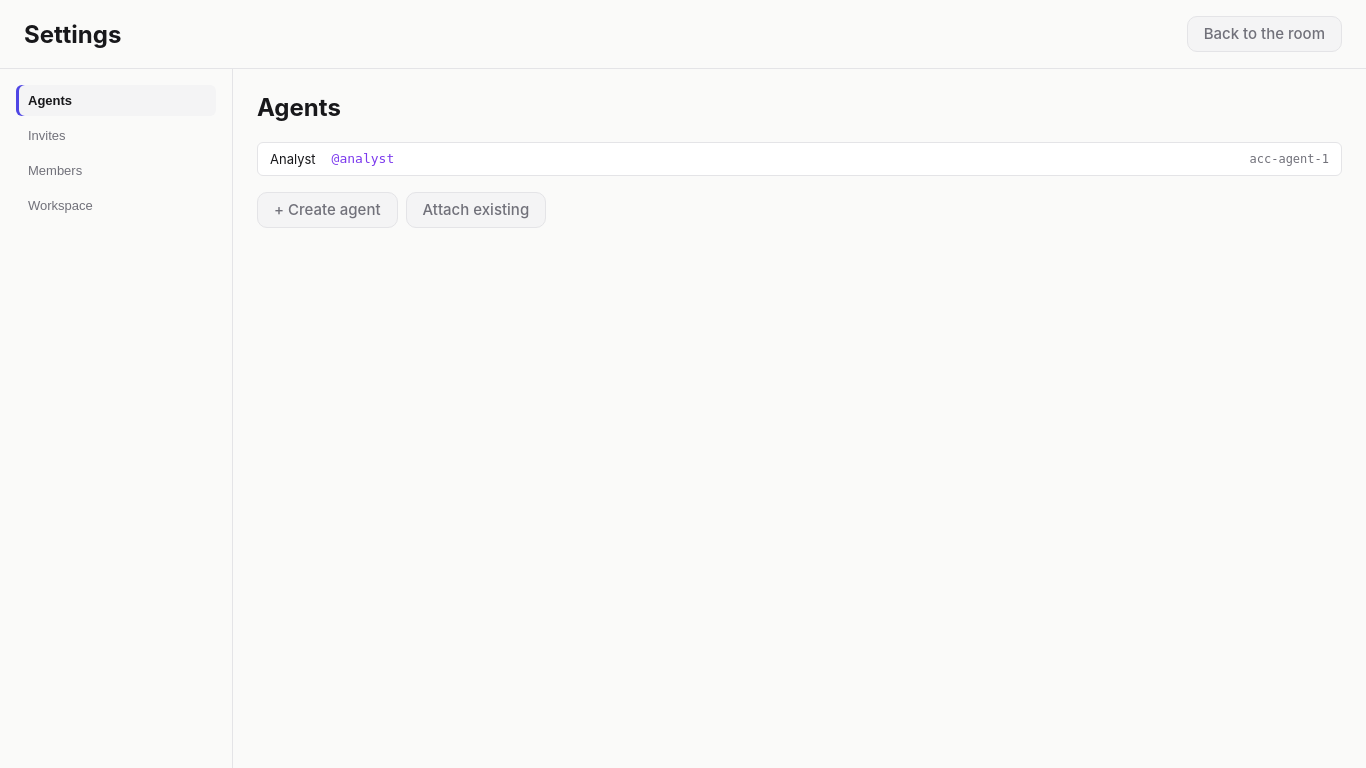
Test: Agents panel (web spec §2, constitution §6) › copying the key uses the clipboard API with the exact key string
This screenshot has width=1366, height=768.
Expected: the text "Analyst" is shown, [270, 151, 316, 167]
Click the button "+ Create agent".
click(327, 210)  # box [257, 192, 398, 228]
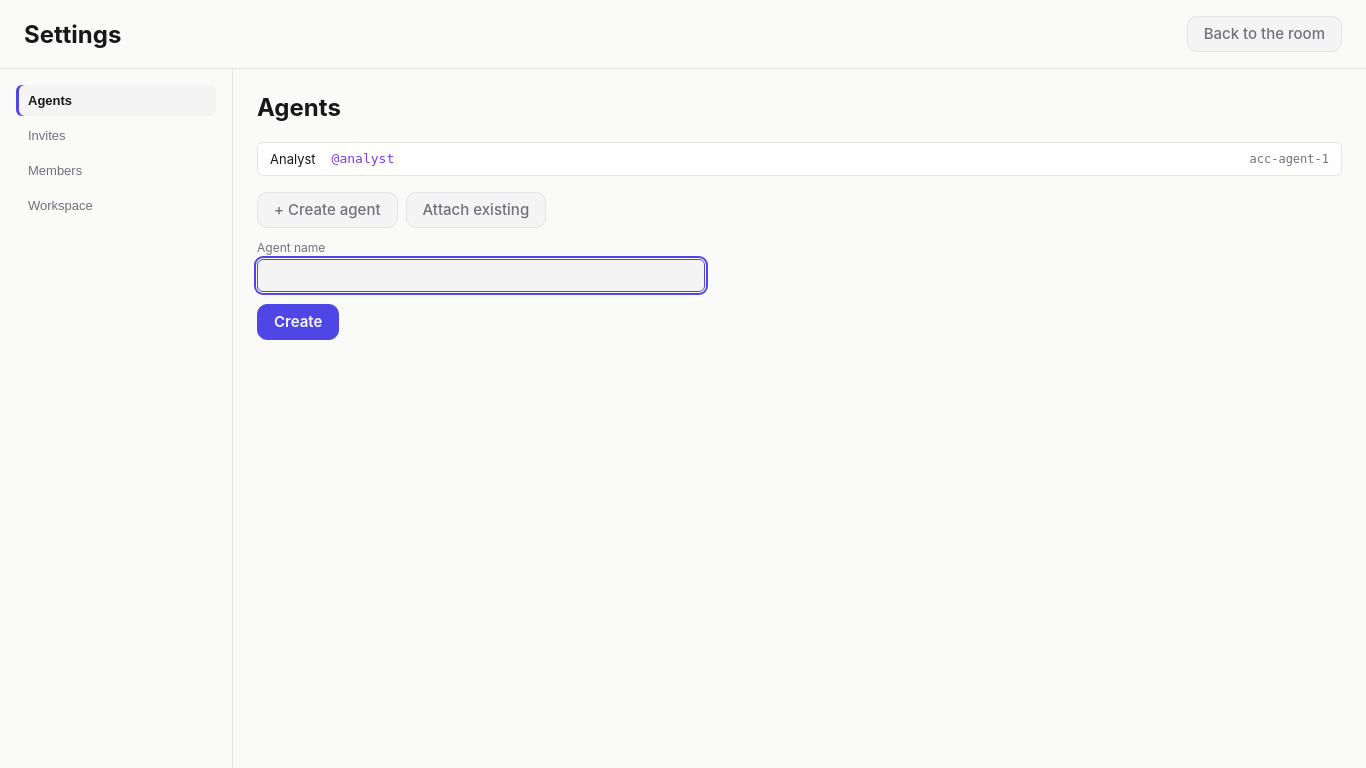
Type "NewAgent" into the field labelled "Agent name".
click(481, 275); type("NewAgent")  # box [257, 259, 705, 292]
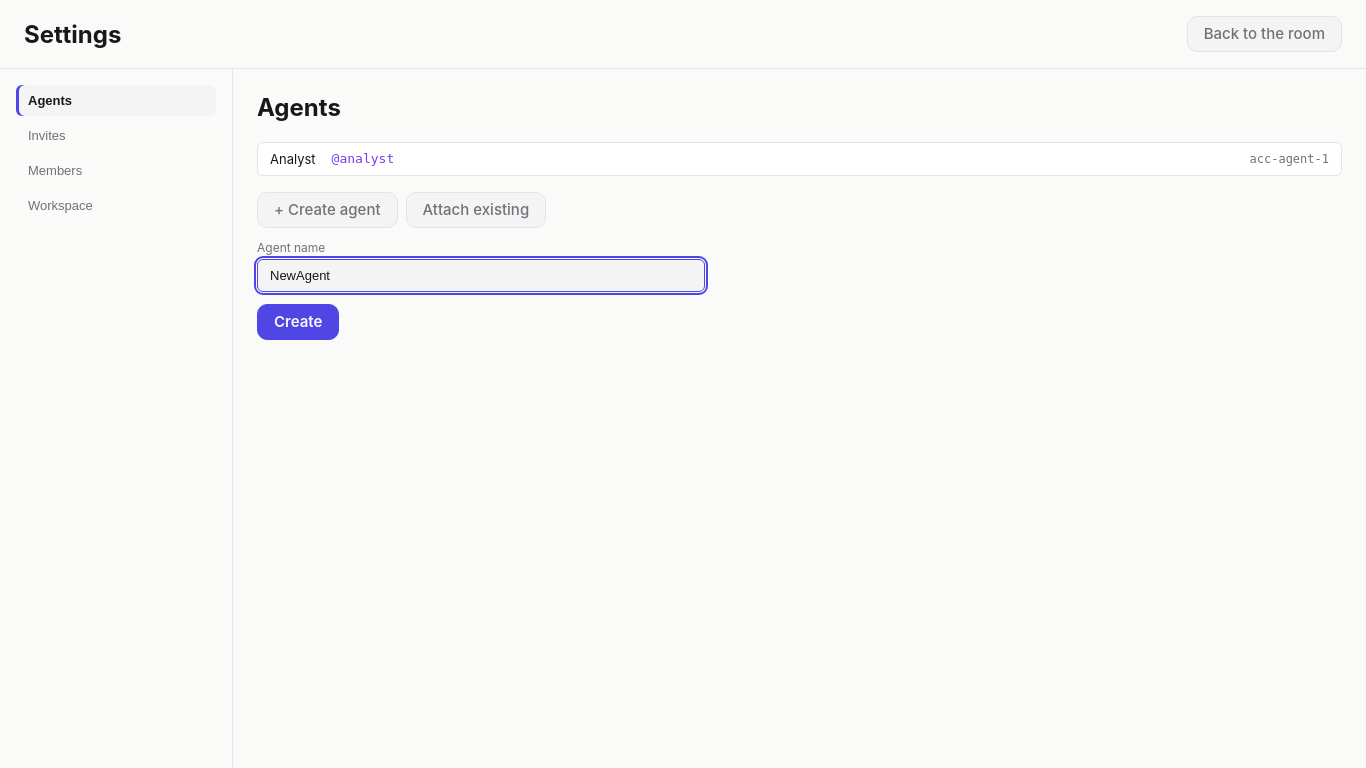
Click the button "Create".
click(298, 322)  # box [257, 304, 339, 340]
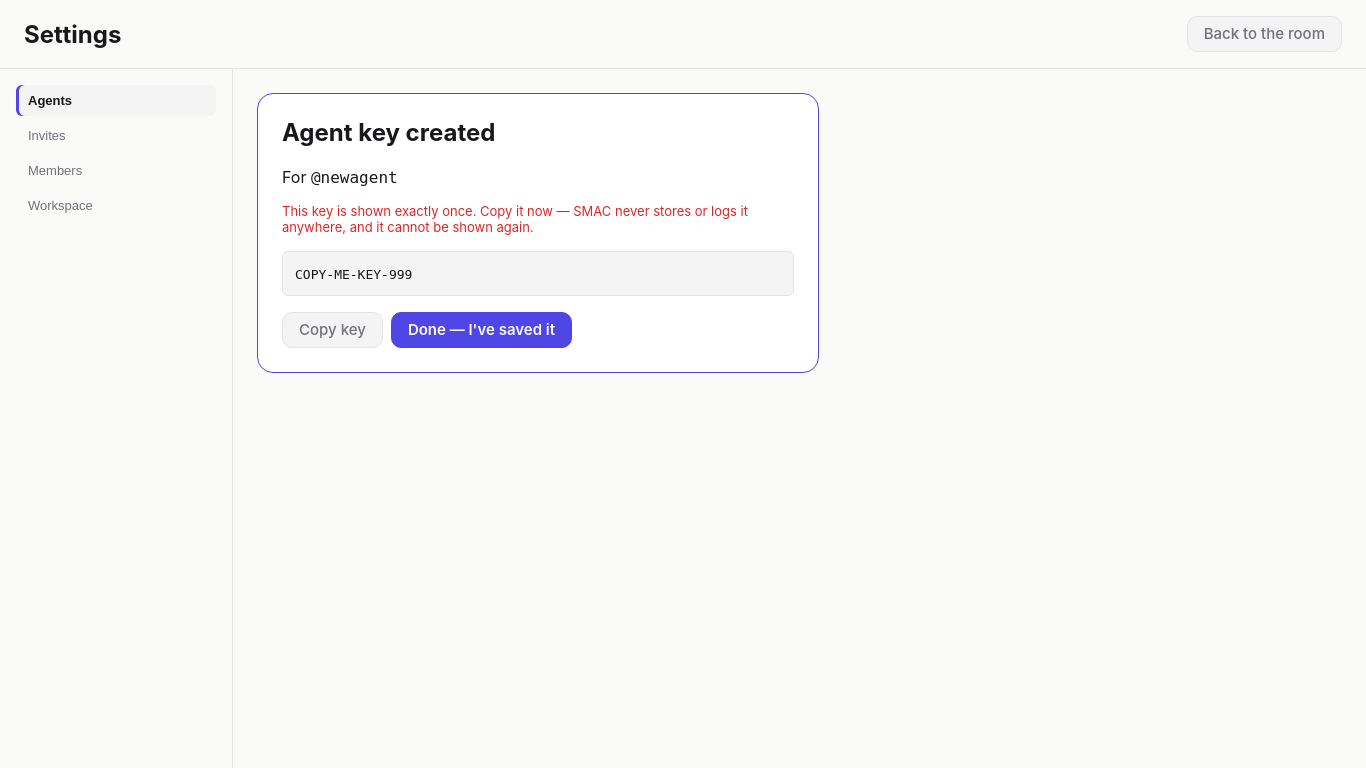
Now the text "COPY-ME-KEY-999" is shown, box [295, 267, 412, 282]
Click the button "Copy key".
click(332, 330)  # box [282, 312, 383, 348]
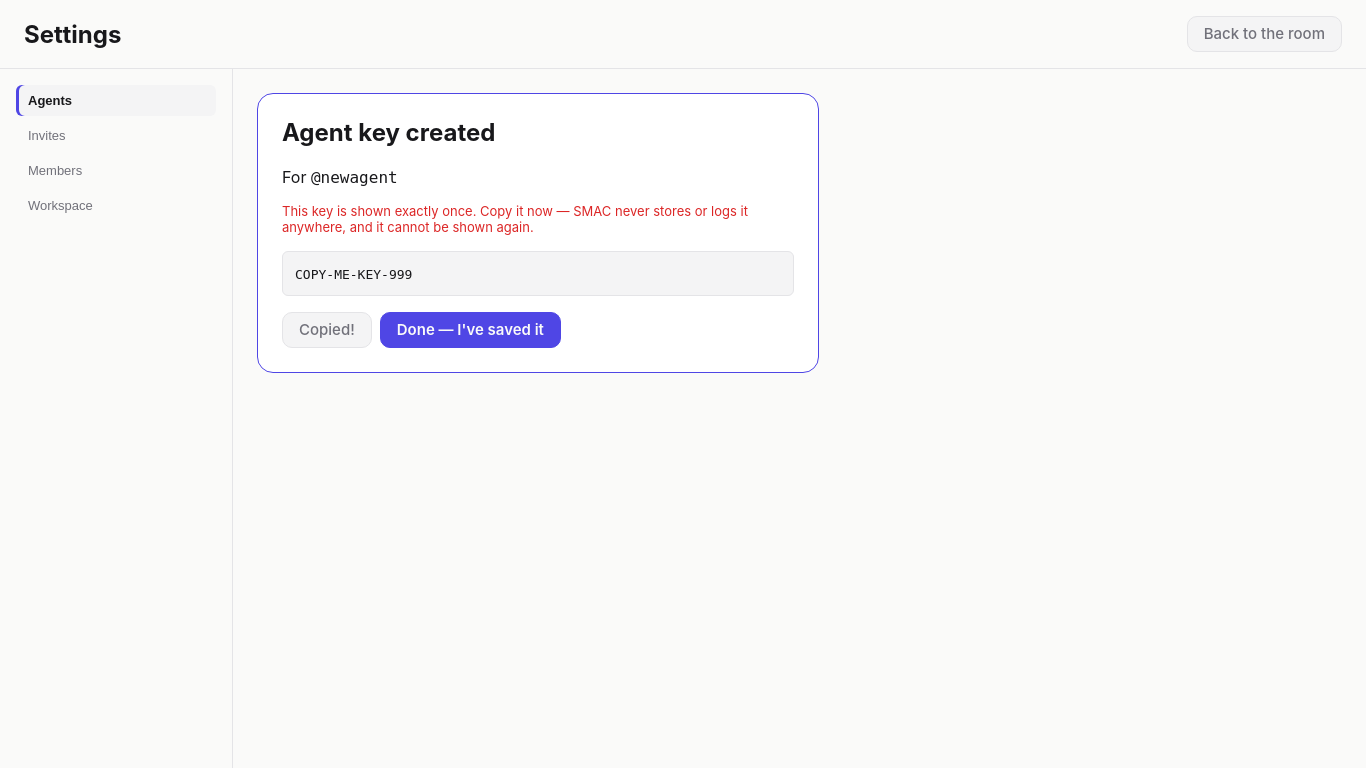
Now the button "Copied!" is shown, box [282, 312, 372, 348]
